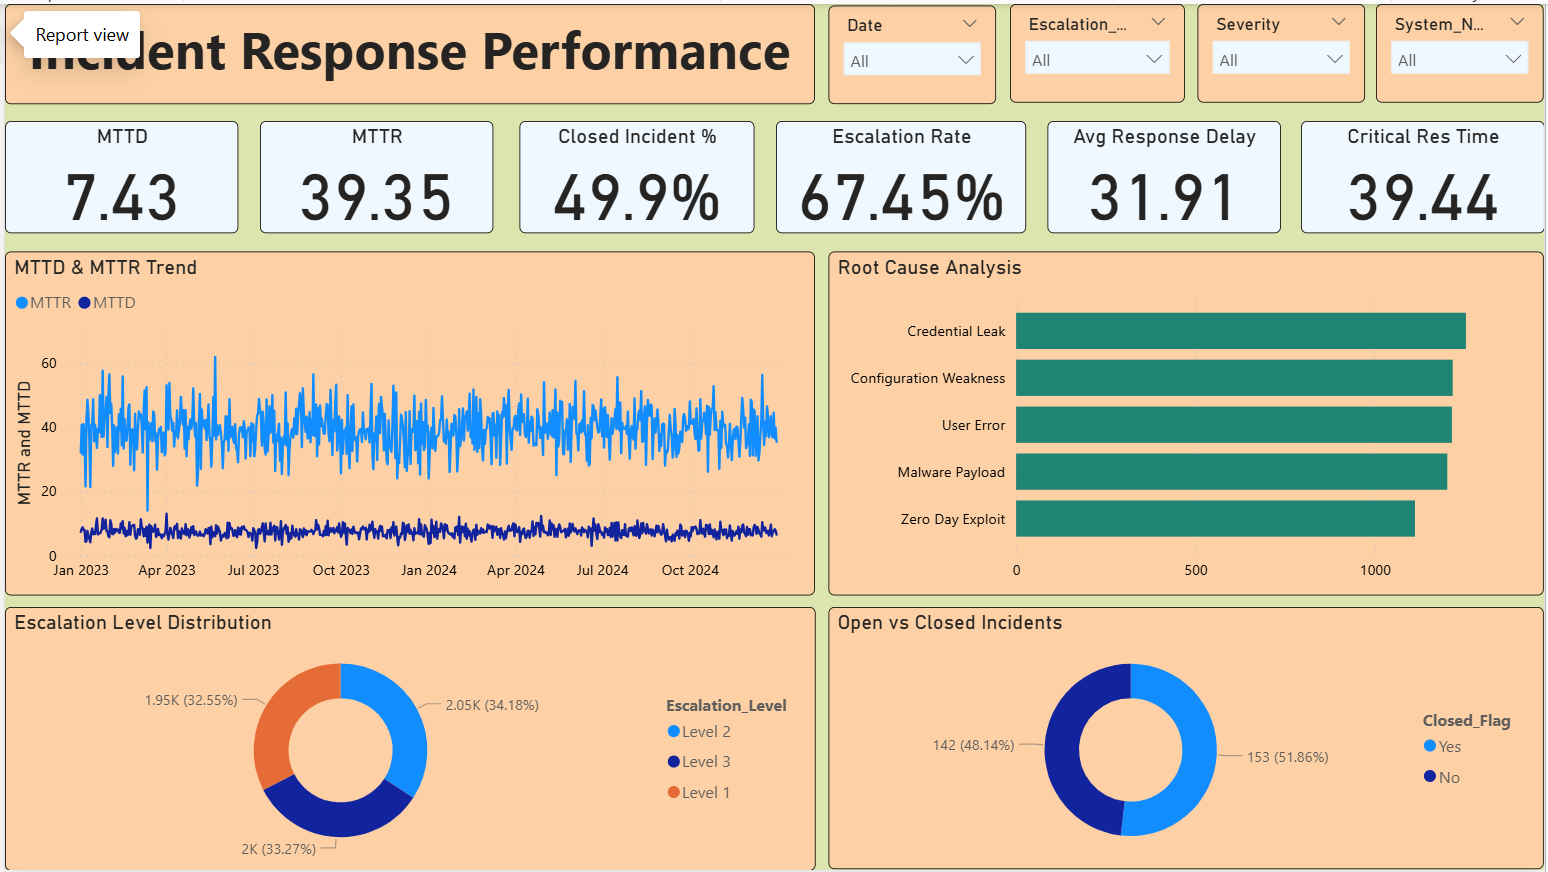

The page's visual inventory and layout, read from the dashboard file:
{"tool":"powerbi","page":{"name":"Incident Response Performance","canvas":[1280,720],"ordinal":3},"visuals":[{"type":"textbox","box":[0,0,673.5,83.3],"z":0},{"type":"slicer","fields":{"Values":["Date_Table.Date"]},"box":[685,1.4,139.3,81.9],"z":1000},{"type":"slicer","fields":{"Values":["Incident_Response.Escalation_Level"]},"box":[835.8,0,145,81.9],"z":2000},{"type":"slicer","fields":{"Values":["Severity.Severity_Level"]},"box":[990.9,0,139.3,81.9],"z":3000},{"type":"slicer","fields":{"Values":["Affected_System.System_Name"]},"box":[1140.2,0,139.3,81.9],"z":4000},{"type":"card","title":"MTTD","fields":{"Values":["Security_Events.MTTD"]},"box":[0,97.7,193.9,93.3],"z":5000},{"type":"card","title":"MTTR","fields":{"Values":["Security_Events.MTTR"]},"box":[212.5,97.7,193.9,93.3],"z":6000},{"type":"card","title":"Closed Incident %","fields":{"Values":["Security_Events.Closed Incident %"]},"box":[427.9,97.7,195.3,93.3],"z":7000},{"type":"card","title":"Escalation Rate","fields":{"Values":["Security_Events.Escalation Rate %"]},"box":[640.5,97.7,208.2,93.3],"z":8000},{"type":"card","title":"Avg Response Delay","fields":{"Values":["Security_Events.Avg Response Delay"]},"box":[867.4,97.7,193.9,93.3],"z":9000},{"type":"card","title":"Critical Res Time","fields":{"Values":["Security_Events.Critical Resolution Time"]},"box":[1077,97.7,202.5,93.3],"z":10000},{"type":"lineChart","title":"MTTD & MTTR Trend","fields":{"Y":["Security_Events.MTTR","Security_Events.MTTD"],"Category":["Date_Table.Date.Variation.Date Hierarchy.Year","Date_Table.Date.Variation.Date Hierarchy.Quarter","Date_Table.Date.Variation.Date Hierarchy.Month","Date_Table.Date.Variation.Date Hierarchy.Day"]},"box":[0,205.4,673.5,285.8],"z":11000},{"type":"clusteredBarChart","title":"Root Cause Analysis","fields":{"Category":["Incident_Response.Root_Cause"],"Y":["Security_Events.Total Cyber Attacks"]},"box":[685,205.4,594.5,285.8],"z":12000},{"type":"donutChart","title":"Escalation Level Distribution","fields":{"Category":["Incident_Response.Escalation_Level"],"Y":["CountNonNull(Incident_Response.Incident_ID)"]},"box":[0,501,674,219],"z":13000},{"type":"donutChart","title":"Open vs Closed Incidents","fields":{"Y":["Security_Events.Total Cyber Attacks"],"Category":["Incident_Response.Closed_Flag"]},"box":[685,501.2,594.5,218.3],"z":14000}]}

Visuals, with their boxes on the page's 1280x720 design canvas (x1, y1, x2, y2). These are canvas units, not pixel positions in the 1548x872 screenshot, which may show the page scaled, cropped or inside an application window:
textbox: [0, 0, 674, 83]
slicer - Date_Table.Date: [685, 1, 824, 83]
slicer - Incident_Response.Escalation_Level: [836, 0, 981, 82]
slicer - Severity.Severity_Level: [991, 0, 1130, 82]
slicer - Affected_System.System_Name: [1140, 0, 1280, 82]
"MTTD" card: [0, 98, 194, 191]
"MTTR" card: [212, 98, 406, 191]
"Closed Incident %" card: [428, 98, 623, 191]
"Escalation Rate" card: [640, 98, 849, 191]
"Avg Response Delay" card: [867, 98, 1061, 191]
"Critical Res Time" card: [1077, 98, 1280, 191]
"MTTD & MTTR Trend" lineChart: [0, 205, 674, 491]
"Root Cause Analysis" clusteredBarChart: [685, 205, 1280, 491]
"Escalation Level Distribution" donutChart: [0, 501, 674, 720]
"Open vs Closed Incidents" donutChart: [685, 501, 1280, 720]
